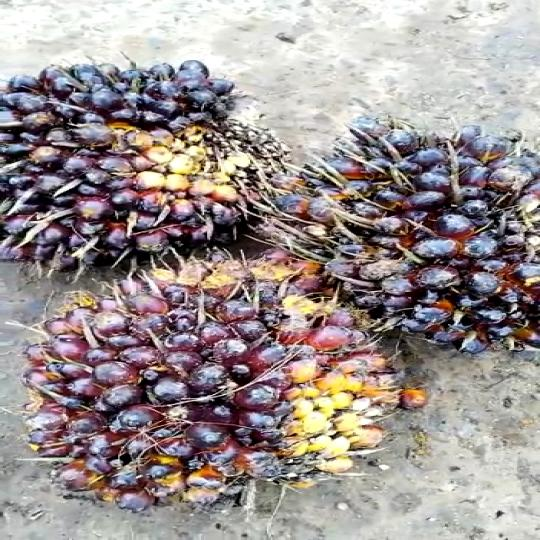mentah: (38, 252, 397, 520), (283, 100, 540, 376), (1, 57, 279, 280)
